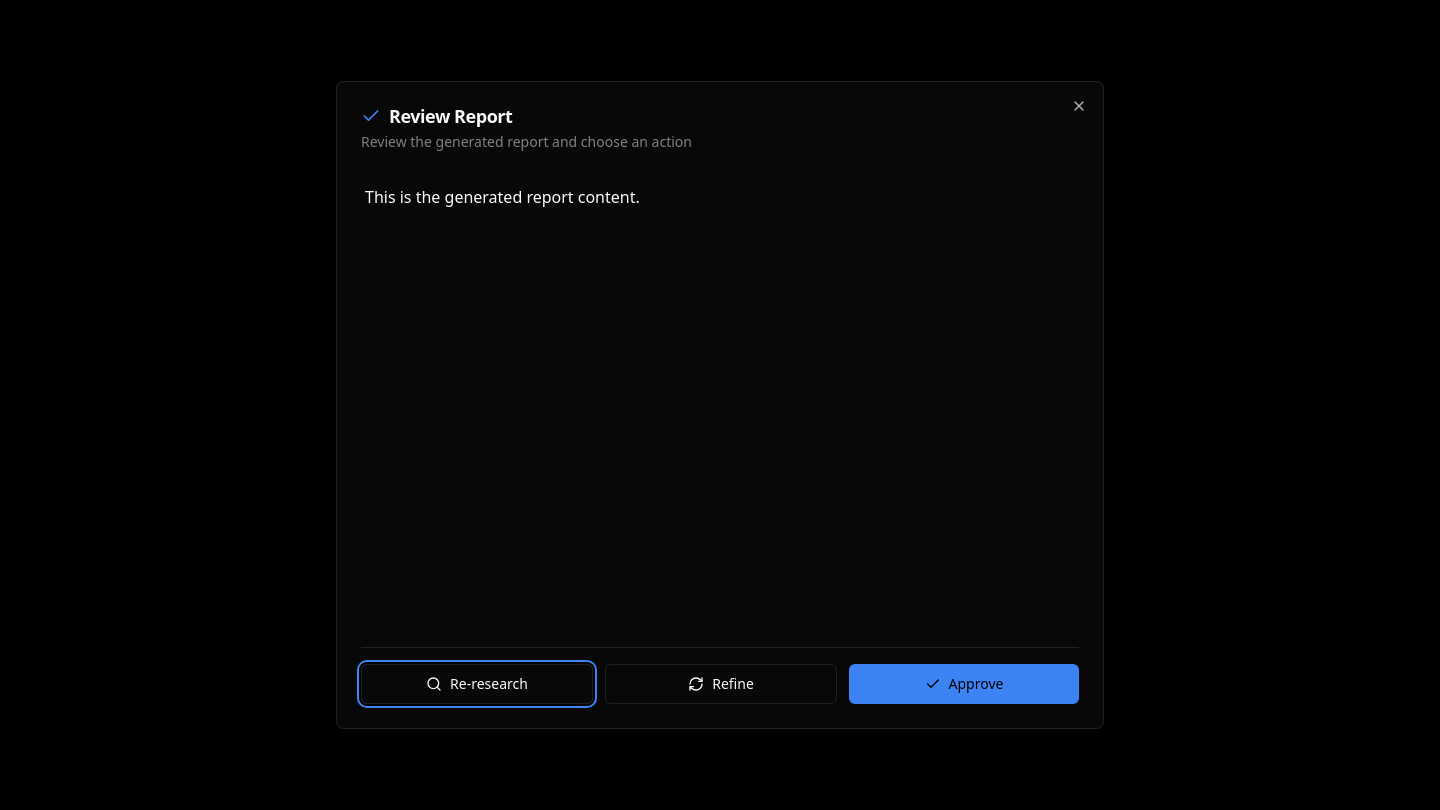
Test: ReviewModal › Refine action › shows the feedback textarea after clicking Refine
The image size is (1440, 810).
Click the button "Refine": (721, 684) top-left (605, 664), bottom-right (837, 704)
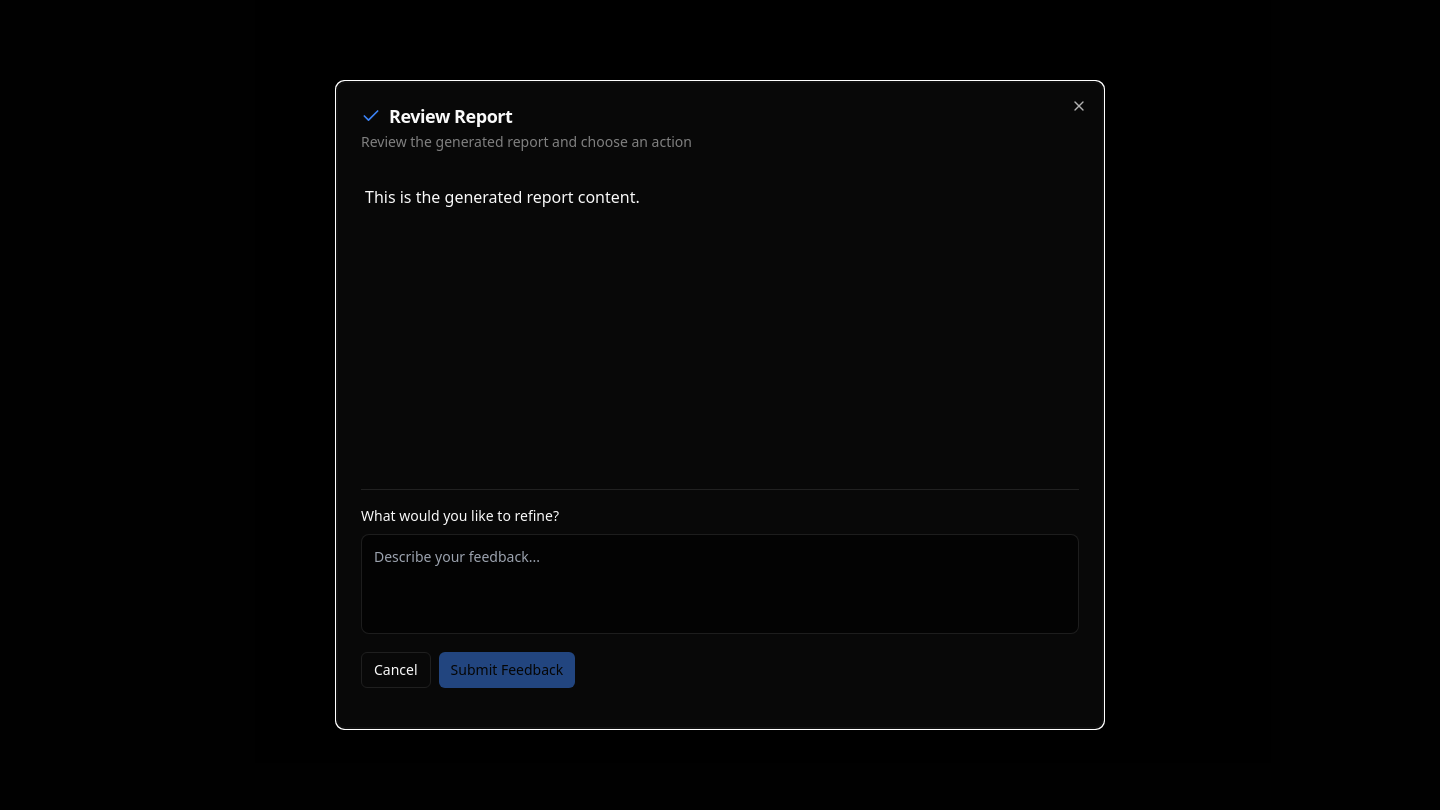
Expected: the text box with placeholder "Describe your feedback..." is shown, top-left (361, 534), bottom-right (1079, 634)
